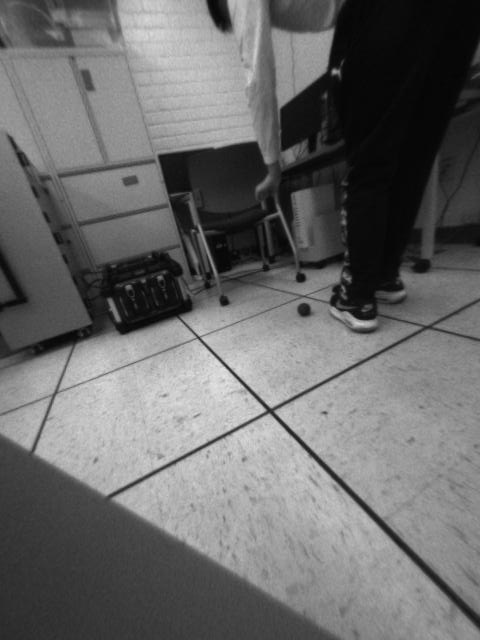dogtoy: (292, 298, 317, 319)
